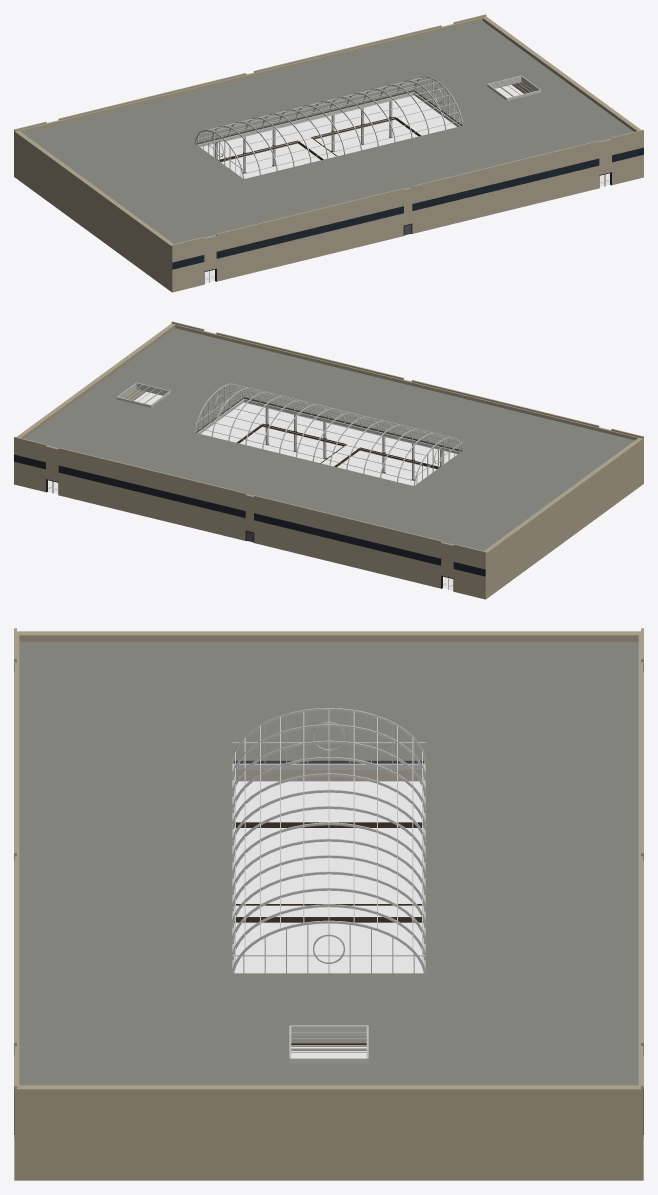
File: gl-shell.glb
The picture shows the model from 3 angles, top to bottom: view 1: azimuth 30°, elevation 25°; view 2: azimuth 150°, elevation 25°; view 3: azimuth 270°, elevation 25°; orthographic projection. The views are drawn at different scales.
Parts seen in each view (by area): view 1: gl-shell; view 2: gl-shell; view 3: gl-shell.
Part boxes in pixels (x1,y1,x2,y2): gl-shell: [14, 14, 643, 292]; gl-shell: [14, 321, 643, 599]; gl-shell: [14, 628, 643, 1180].
Bounding box in the file's own units: 112 × 15.64 × 65.1.
